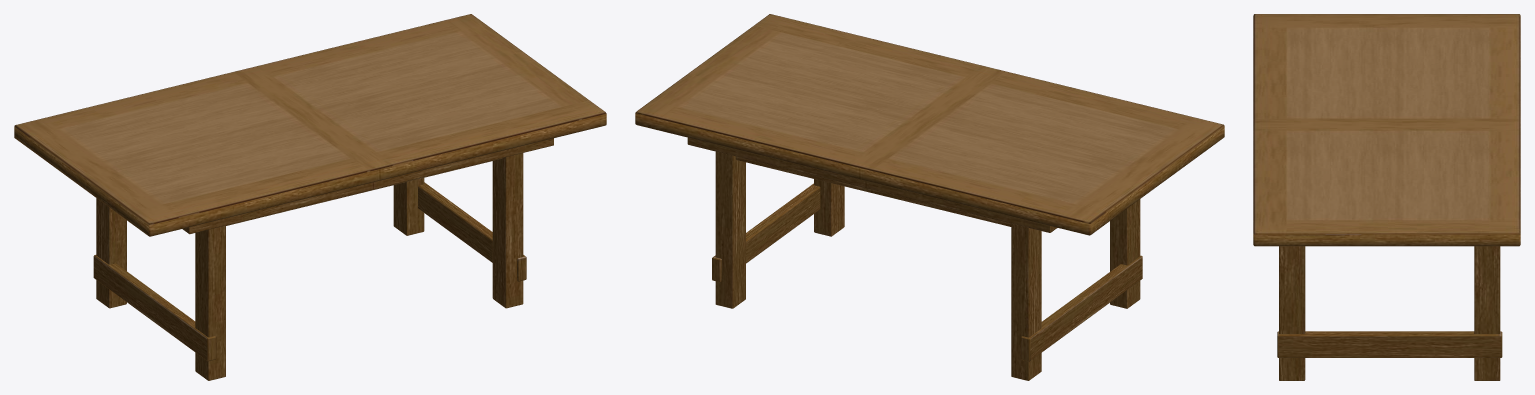
File: dining-table-trestle.glb
3 views of the same model, side by side, from view 1: azimuth 30°, elevation 25°; view 2: azimuth 150°, elevation 25°; view 3: azimuth 270°, elevation 25° (orthographic).
Visible parts, largest first — view 1: RootNode; view 2: RootNode; view 3: RootNode.
Part boxes in pixels (<box>): RootNode: <box>14,14,606,380</box>; RootNode: <box>635,14,1224,380</box>; RootNode: <box>1253,14,1520,380</box>.
Size of the model in its own units: 1.98 by 0.762 by 1.02.
Materials: 1 (1 with a texture image).
